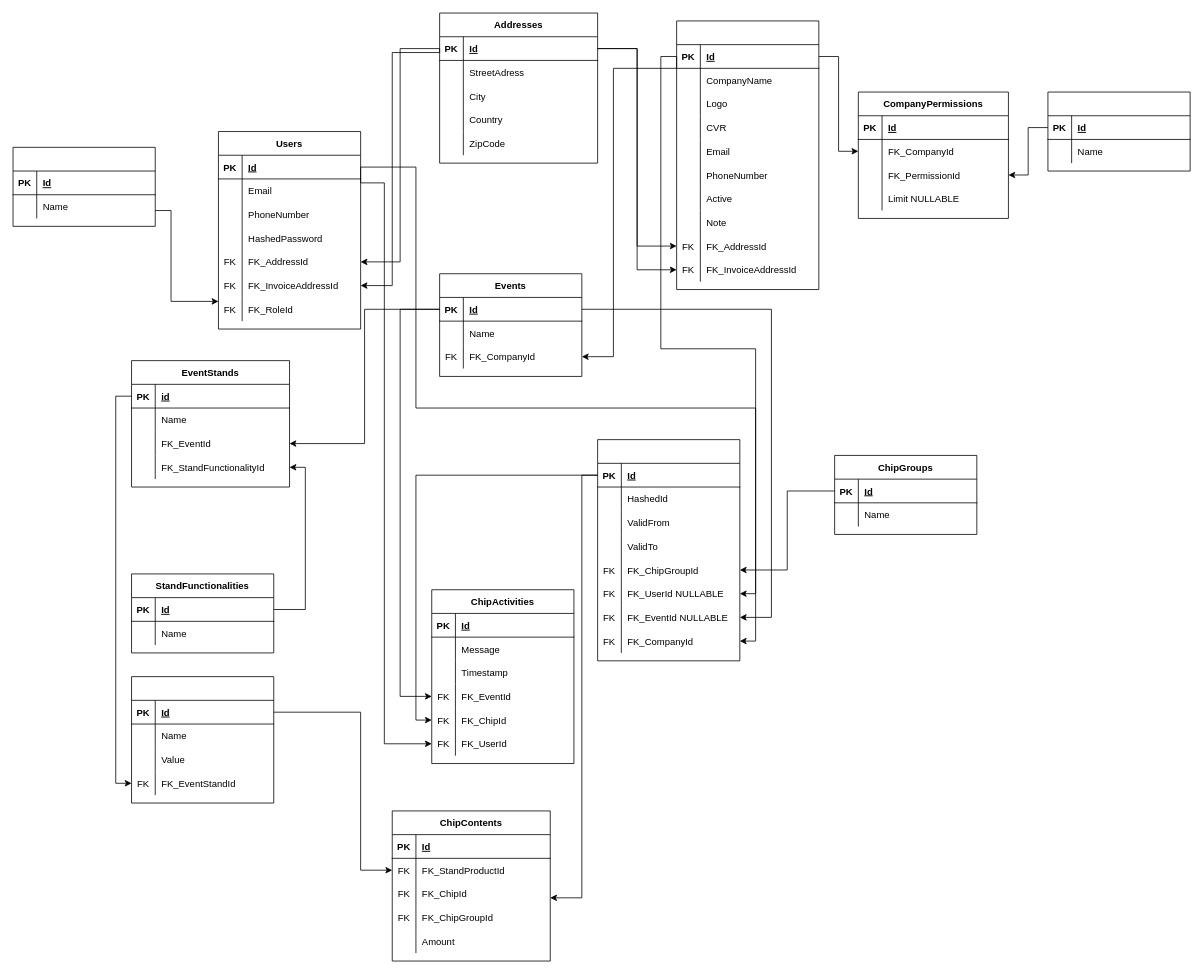
Image size: 1203x974. Some labels were removed from this diagram. The box of each missing label's shape, as (x1, y1, x2, y2) in pixels:
Chips: (597, 439, 740, 661)
Companies: (676, 20, 819, 290)
Permissions: (1047, 91, 1190, 171)
Roles: (12, 147, 155, 226)
StandProducts: (131, 676, 274, 803)
